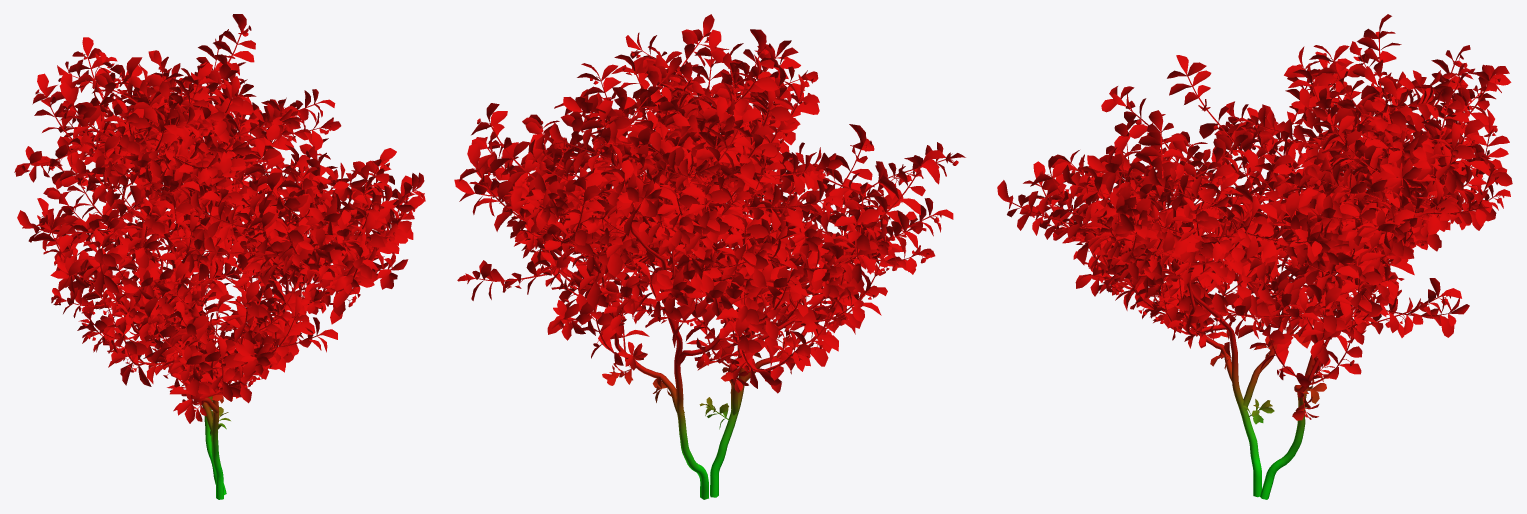
File: European Spindle_LOD2_Var15.fbx
3 views of the same model, side by side, from view 1: azimuth 30°, elevation 25°; view 2: azimuth 150°, elevation 25°; view 3: azimuth 270°, elevation 25° (orthographic). The views are drawn at different scales.
Parts seen in each view (by area): view 1: _4gjn_Var15_LOD2; view 2: _4gjn_Var15_LOD2; view 3: _4gjn_Var15_LOD2.
Boxes of the visible parts, x1=… form: _4gjn_Var15_LOD2: x1=14, y1=14, x2=425, y2=499; _4gjn_Var15_LOD2: x1=454, y1=14, x2=965, y2=499; _4gjn_Var15_LOD2: x1=997, y1=14, x2=1512, y2=499.
Size of the model in its own units: 253 by 275 by 298.
